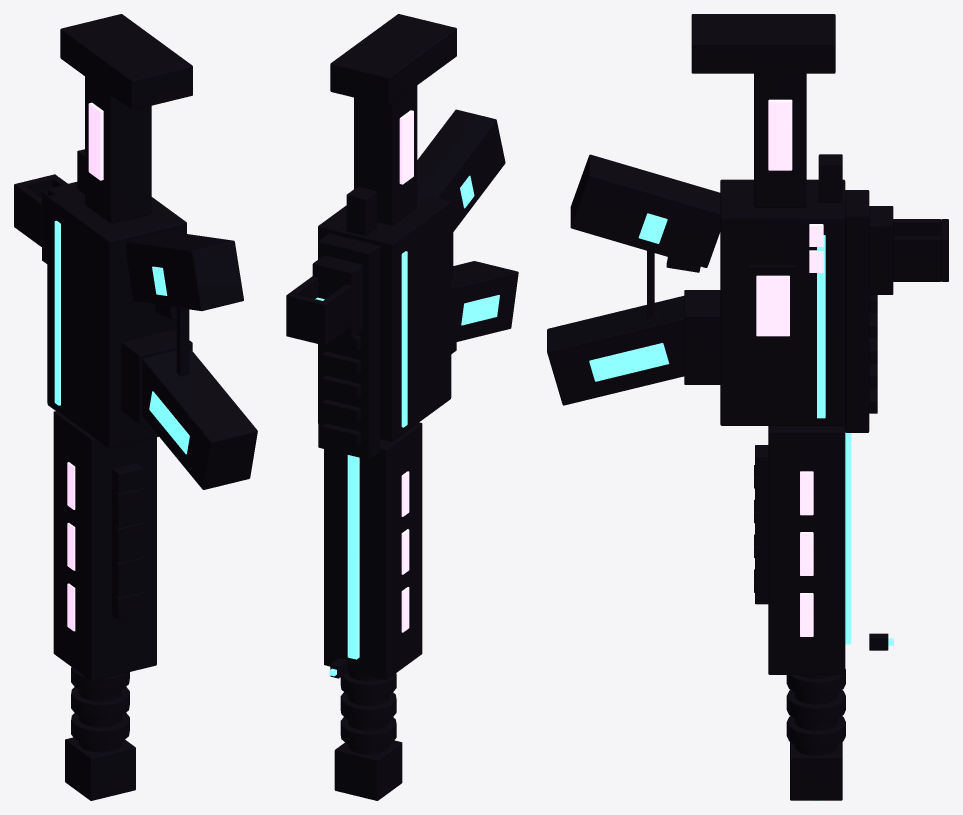
Rendered from CyberPhaseRifle.fbx.
3 renders of one model, left to right at view 1: azimuth 30°, elevation 25°; view 2: azimuth 150°, elevation 25°; view 3: azimuth 270°, elevation 25°, orthographic. The views are drawn at different scales.
Visible parts, largest first — view 1: CPR_main angular receiver, CPR_handguard shroud, CPR_angled energy magazine, CPR_stock shoulder pad, CPR_pistol grip, CPR_stock spine bar, CPR_underbarrel accessory rail, CPR_front squared compensator, CPR_barrel cooling fins, CPR_magazine well, CPR_holo sight frame, CPR_underbarrel rail grooves (+6 smaller); view 2: CPR_handguard shroud, CPR_main angular receiver, CPR_stock shoulder pad, CPR_receiver top rail spine, CPR_pistol grip, CPR_stock spine bar, CPR_angled energy magazine, CPR_holo sight frame, CPR_barrel cooling fins, CPR_front squared compensator, CPR_top rail ridges, CPR_cyan top charge channel (+7 smaller); view 3: CPR_main angular receiver, CPR_handguard shroud, CPR_pistol grip, CPR_angled energy magazine, CPR_stock shoulder pad, CPR_receiver top rail spine, CPR_stock spine bar, CPR_barrel cooling fins, CPR_holo sight frame, CPR_magazine well, CPR_front squared compensator, CPR_magenta ejection port (+11 smaller).
Boxes of the visible parts, x1,y1,x2,y2 form: CPR_main angular receiver: [47, 189, 186, 448]; CPR_handguard shroud: [53, 411, 156, 680]; CPR_angled energy magazine: [142, 348, 257, 489]; CPR_stock shoulder pad: [60, 14, 192, 110]; CPR_pistol grip: [126, 231, 243, 311]; CPR_stock spine bar: [85, 76, 151, 223]; CPR_underbarrel accessory rail: [112, 463, 142, 620]; CPR_front squared compensator: [65, 737, 135, 800]; CPR_barrel cooling fins: [71, 667, 129, 745]; CPR_magazine well: [121, 329, 192, 424]; CPR_holo sight frame: [14, 174, 67, 246]; CPR_underbarrel rail grooves: [114, 487, 144, 609]; CPR_handguard shroud: [324, 422, 422, 679]; CPR_main angular receiver: [318, 193, 451, 441]; CPR_stock shoulder pad: [330, 14, 456, 105]; CPR_receiver top rail spine: [318, 233, 379, 459]; CPR_pistol grip: [417, 109, 505, 234]; CPR_stock spine bar: [354, 85, 417, 225]; CPR_angled energy magazine: [451, 261, 518, 341]; CPR_holo sight frame: [286, 276, 351, 345]; CPR_barrel cooling fins: [340, 671, 396, 747]; CPR_front squared compensator: [334, 740, 402, 800]; CPR_top rail ridges: [322, 255, 360, 446]; CPR_cyan top charge channel: [347, 455, 359, 659]; CPR_main angular receiver: [720, 179, 845, 425]; CPR_handguard shroud: [768, 425, 845, 674]; CPR_pistol grip: [570, 154, 720, 267]; CPR_angled energy magazine: [547, 296, 684, 405]; CPR_stock shoulder pad: [691, 14, 835, 73]; CPR_receiver top rail spine: [845, 190, 869, 432]; CPR_stock spine bar: [754, 73, 806, 207]; CPR_barrel cooling fins: [786, 669, 845, 748]; CPR_holo sight frame: [893, 219, 948, 281]; CPR_magazine well: [684, 290, 720, 384]; CPR_front squared compensator: [790, 742, 842, 800]; CPR_magenta ejection port: [756, 275, 789, 336].
Size of the model in its own units: 20.3 by 176 by 83.69.
